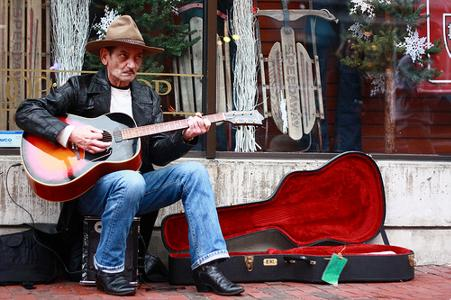person: (15, 15, 246, 296)
